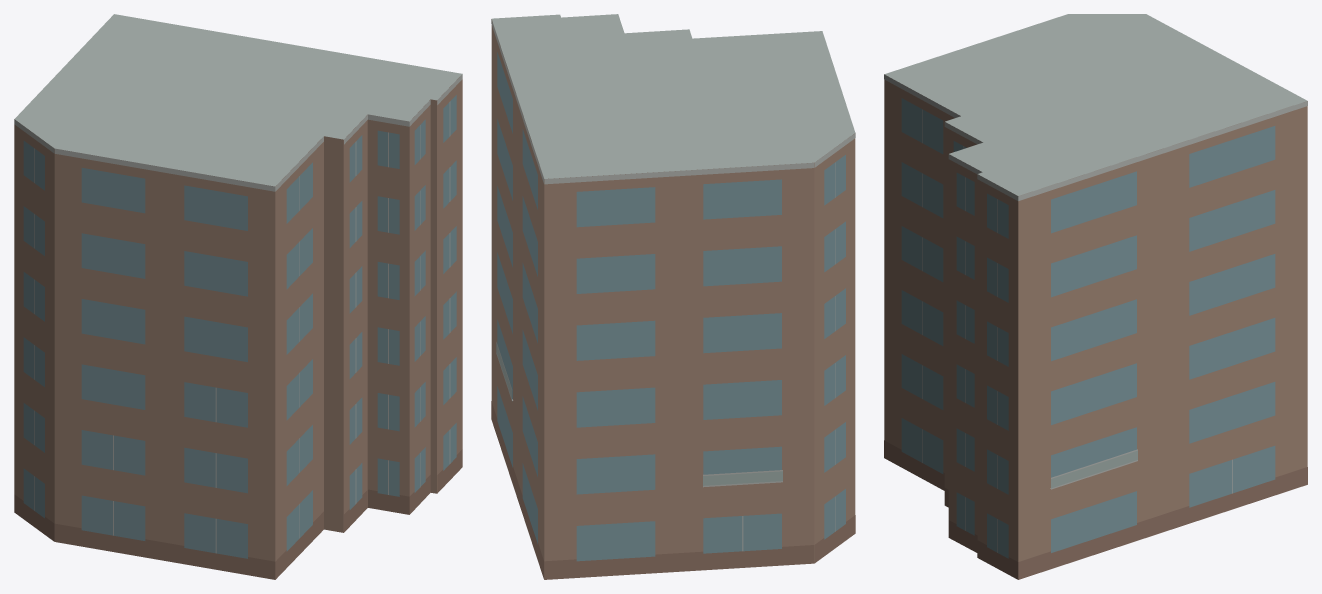
Rendered from survey-upis-32669070.glb.
3 views of the same model, side by side, from view 1: azimuth 30°, elevation 25°; view 2: azimuth 150°, elevation 25°; view 3: azimuth 270°, elevation 25° (orthographic). The views are drawn at different scales.
Parts seen in each view (by area): view 1: survey-upis-32669070.tmp; view 2: survey-upis-32669070.tmp; view 3: survey-upis-32669070.tmp.
Boxes of the visible parts, <box> form: survey-upis-32669070.tmp: <box>14,14,462,579</box>; survey-upis-32669070.tmp: <box>491,14,855,579</box>; survey-upis-32669070.tmp: <box>884,14,1307,579</box>.
Size of the model in its own units: 18.64 by 18.3 by 18.32.
